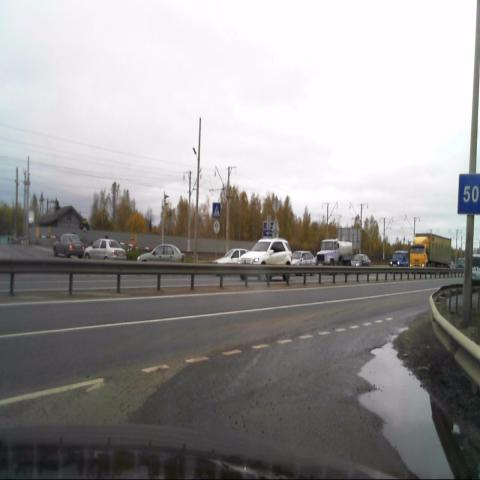6_2: (458, 173, 480, 215)
